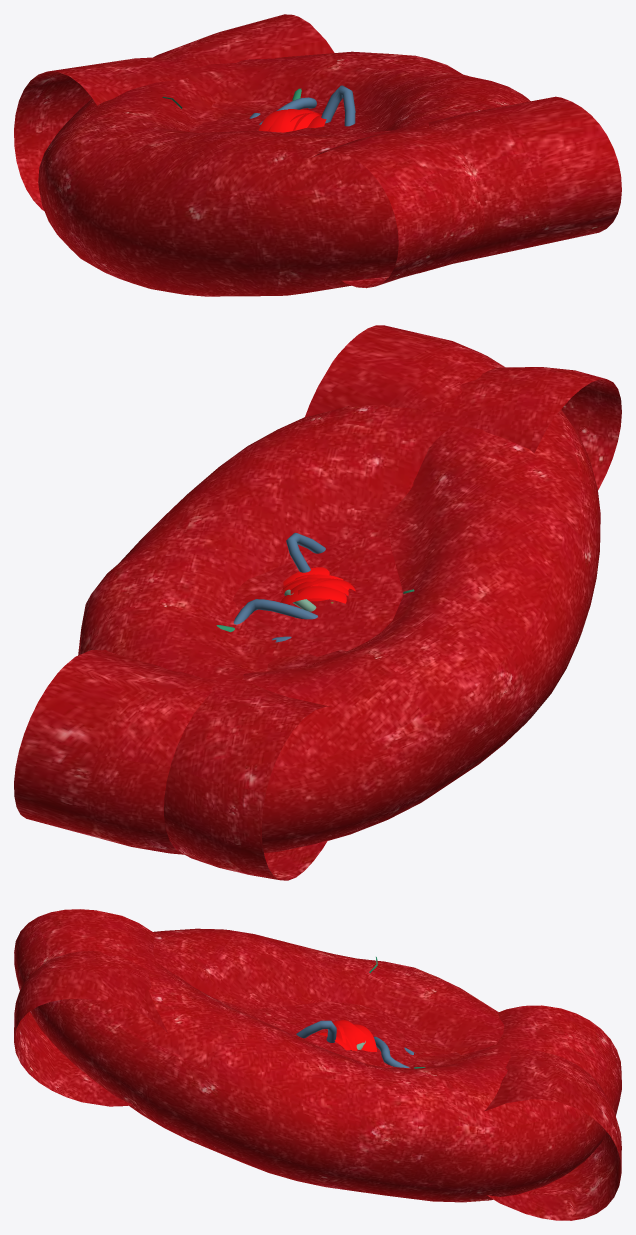
Rendered from platelet.mobile.glb.
3 renders of one model, top to bottom at view 1: azimuth 30°, elevation 25°; view 2: azimuth 150°, elevation 25°; view 3: azimuth 270°, elevation 25°, orthographic. The views are drawn at different scales.
Visible parts, largest first — view 1: blood.015_0, blood.001_26, Cube.019_32; view 2: blood.015_0, blood.001_26, Cube.019_32; view 3: blood.001_26, blood.015_0, Cube.019_32.
Part boxes in pixels (x1,y1,x2,y2): blood.015_0: [38, 14, 621, 296]; blood.001_26: [14, 51, 530, 288]; Cube.019_32: [162, 85, 355, 126]; blood.015_0: [14, 325, 600, 854]; blood.001_26: [78, 367, 621, 880]; Cube.019_32: [216, 532, 414, 642]; blood.001_26: [14, 909, 621, 1202]; blood.015_0: [14, 928, 621, 1220]; Cube.019_32: [296, 957, 425, 1068].
Bounding box in the file's own units: 311843 × 198572 × 480581.
11 materials, 4 textured.
